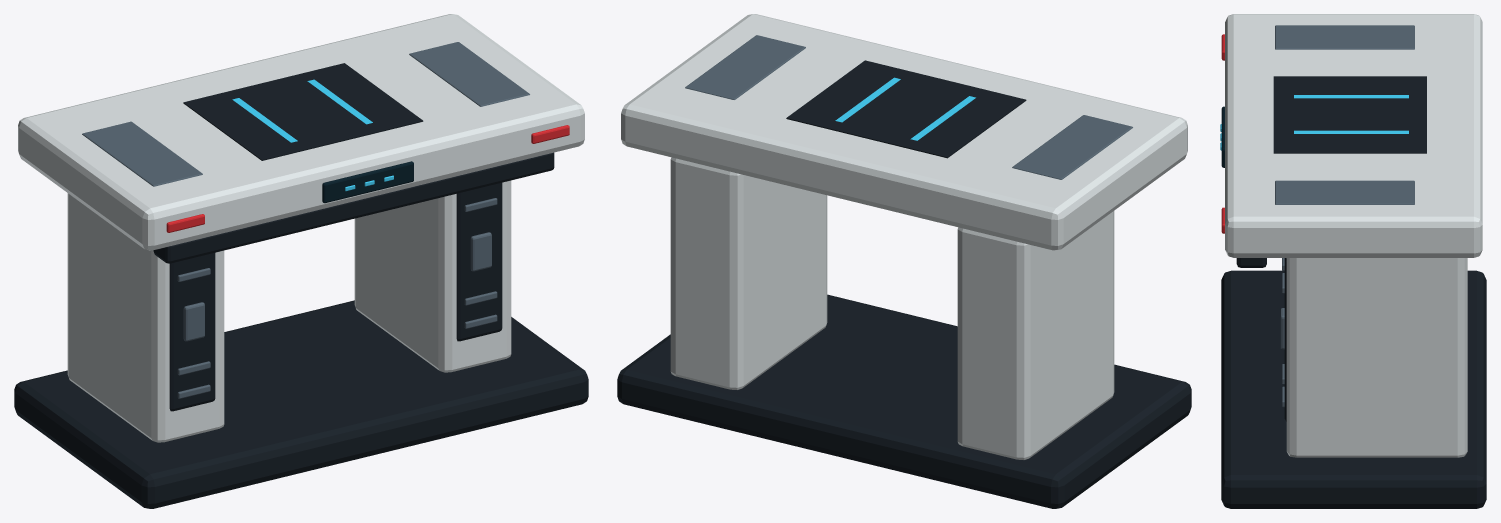
Rendered from cw01c_supply_station.obj.
The picture shows the model from 3 angles, left to right: view 1: azimuth 30°, elevation 25°; view 2: azimuth 150°, elevation 25°; view 3: azimuth 270°, elevation 25°; orthographic projection. The views are drawn at different scales.
Parts seen in each view (by area): view 1: 16_worktop, 00_floor_sled.001, 01_load_upright, 08_load_upright.001, 17_dock_inset, 15_front_utility_rail, 09_upright_insert.001, 02_upright_insert, 24_deck_traction_strip, 25_deck_traction_strip.001, 20_status_display, 03_upright_latch (+1 smaller); view 2: 16_worktop, 00_floor_sled.001, 01_load_upright, 08_load_upright.001, 17_dock_inset, 24_deck_traction_strip, 25_deck_traction_strip.001; view 3: 16_worktop, 08_load_upright.001, 00_floor_sled.001, 17_dock_inset, 24_deck_traction_strip, 25_deck_traction_strip.001, 09_upright_insert.001.
Boxes of the visible parts, x1,y1,x2,y2 form: 16_worktop: (18, 14, 584, 250); 00_floor_sled.001: (14, 300, 588, 508); 01_load_upright: (67, 193, 224, 442); 08_load_upright.001: (354, 180, 511, 372); 17_dock_inset: (183, 63, 423, 160); 15_front_utility_rail: (153, 152, 554, 263); 09_upright_insert.001: (456, 182, 502, 341); 02_upright_insert: (169, 253, 215, 411); 24_deck_traction_strip: (82, 121, 202, 186); 25_deck_traction_strip.001: (409, 42, 529, 106); 20_status_display: (322, 161, 413, 203); 03_upright_latch: (183, 302, 204, 341); 16_worktop: (621, 14, 1187, 250); 00_floor_sled.001: (617, 294, 1191, 508); 01_load_upright: (957, 211, 1114, 459); 08_load_upright.001: (670, 157, 827, 389); 17_dock_inset: (786, 60, 1026, 158); 24_deck_traction_strip: (1012, 115, 1132, 179); 25_deck_traction_strip.001: (685, 35, 805, 99); 16_worktop: (1225, 14, 1482, 257); 08_load_upright.001: (1286, 258, 1467, 457); 00_floor_sled.001: (1221, 270, 1486, 508); 17_dock_inset: (1273, 76, 1426, 153); 24_deck_traction_strip: (1275, 25, 1414, 49); 25_deck_traction_strip.001: (1275, 180, 1414, 204); 09_upright_insert.001: (1284, 258, 1286, 421).
Bounding box in the file's own units: 1.4 × 0.9 × 0.7425.
